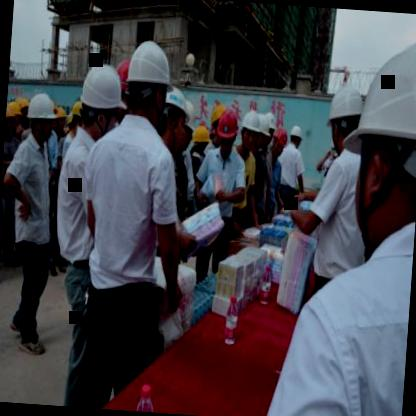helmet: (344, 27, 416, 242), (123, 34, 178, 128), (76, 60, 126, 143), (323, 78, 361, 154), (160, 86, 190, 146), (25, 92, 56, 144), (214, 106, 238, 152), (180, 98, 198, 154), (250, 111, 272, 156), (240, 108, 261, 154), (189, 123, 211, 166), (271, 125, 289, 161), (288, 122, 306, 152), (4, 103, 18, 138)
